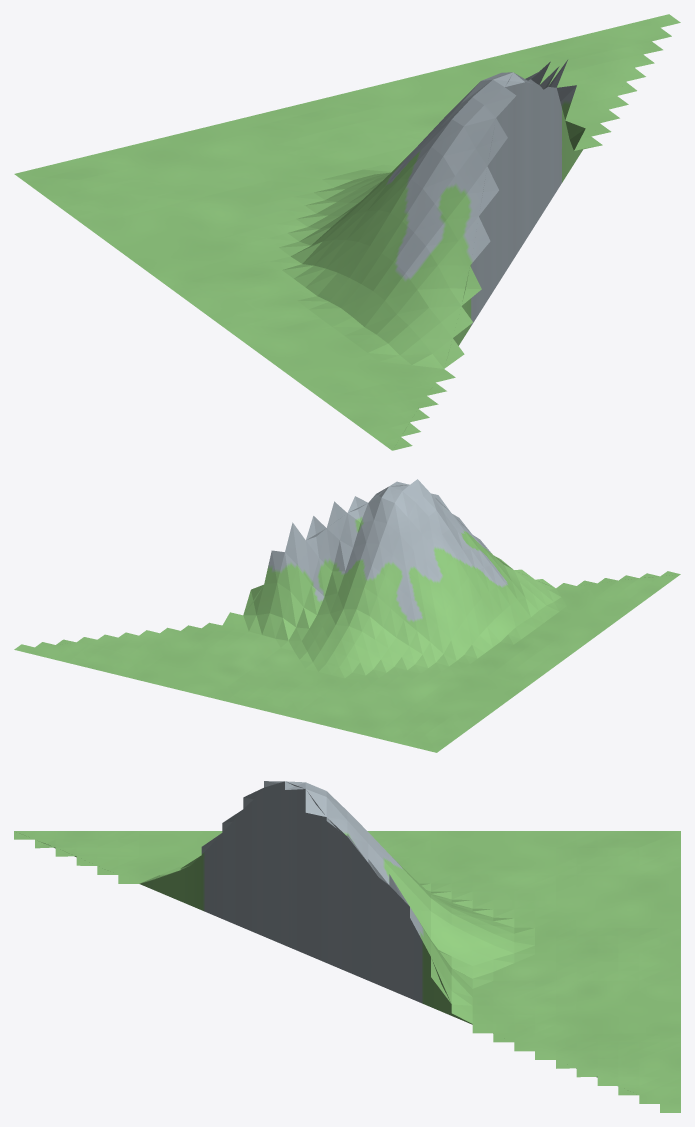
Rendered from Grass_RockyMountains_11_SW.obj.
3 views of the same model, one above another, from view 1: azimuth 30°, elevation 25°; view 2: azimuth 150°, elevation 25°; view 3: azimuth 270°, elevation 25° (orthographic). The views are drawn at different scales.
Size of the model in its own units: 10 by 2.73 by 10.
1 material, 1 textured.
